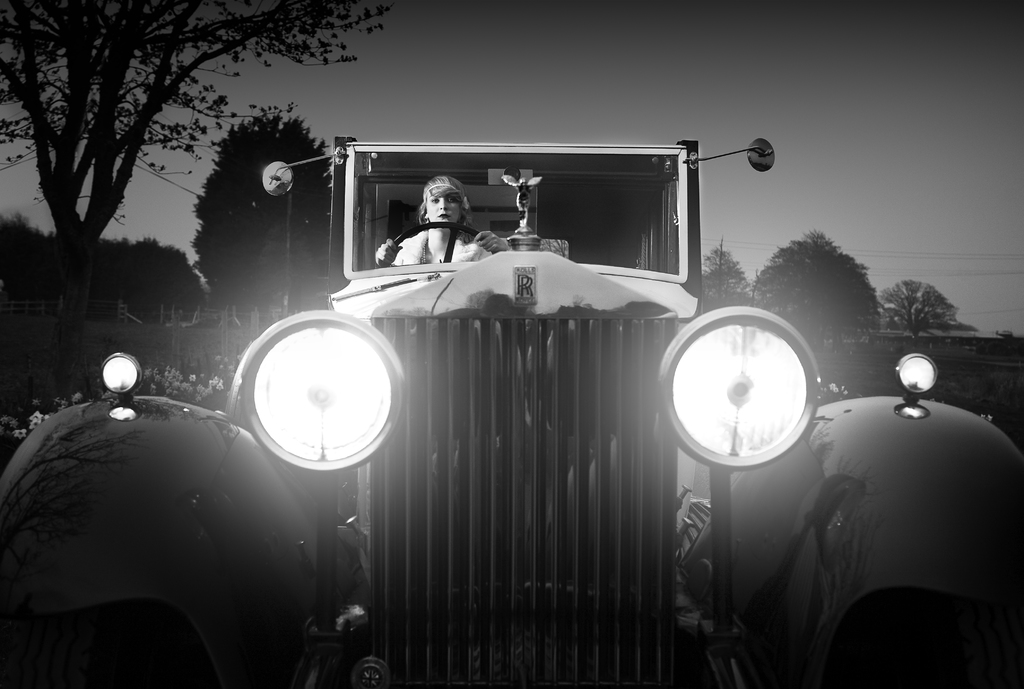Car: (0, 135, 1023, 688)
